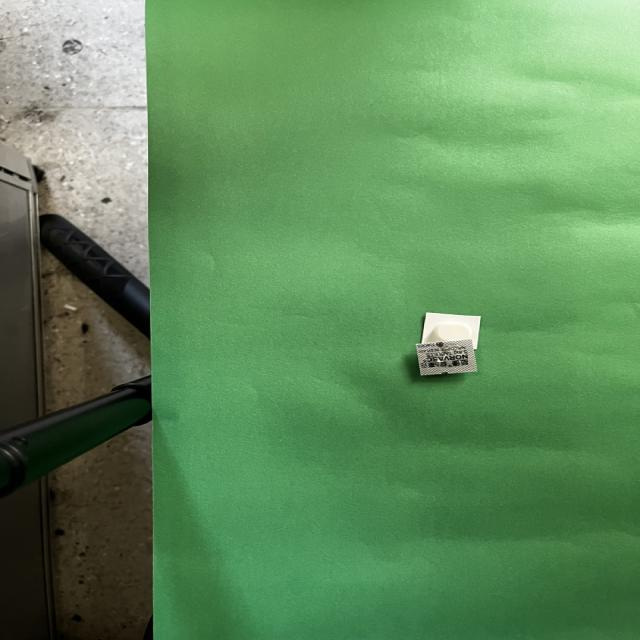Other Objects: (416, 320, 477, 376), (421, 312, 480, 349)
